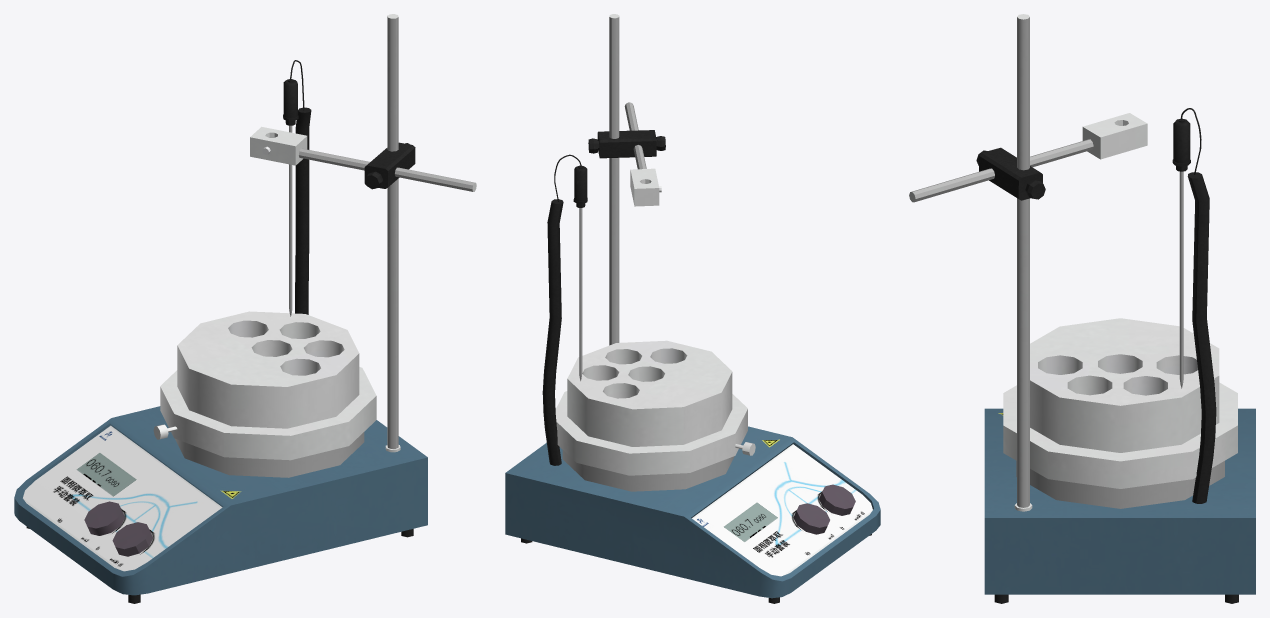
File: SM_固相微萃取装置.fbx
3 renders of one model, left to right at view 1: azimuth 30°, elevation 25°; view 2: azimuth 150°, elevation 25°; view 3: azimuth 270°, elevation 25°, orthographic. The views are drawn at different scales.
Visible parts, largest first — view 1: SM_固相微萃取装置_主体, SM_固相微萃取装置_架子, SM_固相微萃取装置_开关; view 2: SM_固相微萃取装置_主体, SM_固相微萃取装置_架子, SM_固相微萃取装置_开关; view 3: SM_固相微萃取装置_主体, SM_固相微萃取装置_架子.
Boxes of the visible parts, x1,y1,x2,y2 form: SM_固相微萃取装置_主体: (14, 14, 427, 603); SM_固相微萃取装置_架子: (250, 126, 476, 191); SM_固相微萃取装置_开关: (112, 522, 152, 556); SM_固相微萃取装置_主体: (505, 14, 880, 603); SM_固相微萃取装置_架子: (588, 102, 665, 206); SM_固相微萃取装置_开关: (819, 484, 855, 515); SM_固相微萃取装置_主体: (984, 14, 1255, 603); SM_固相微萃取装置_架子: (909, 113, 1147, 202).
Bounding box in the file's own units: 215 × 332 × 177.
